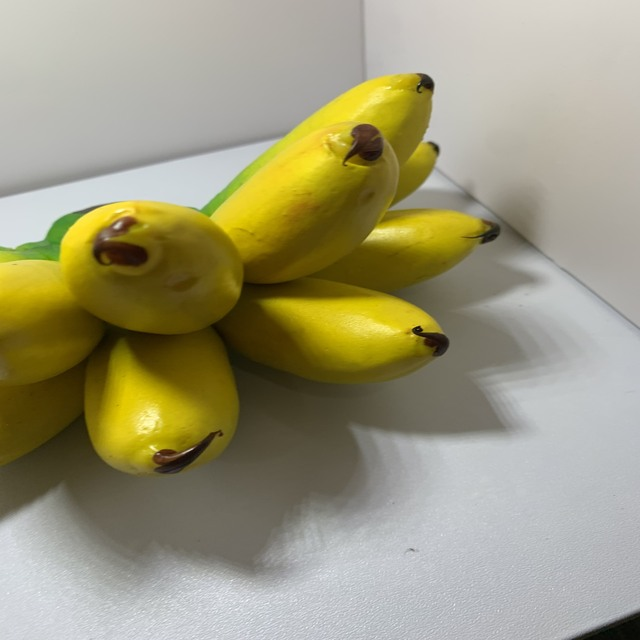Chuoi: (0, 67, 499, 484)
